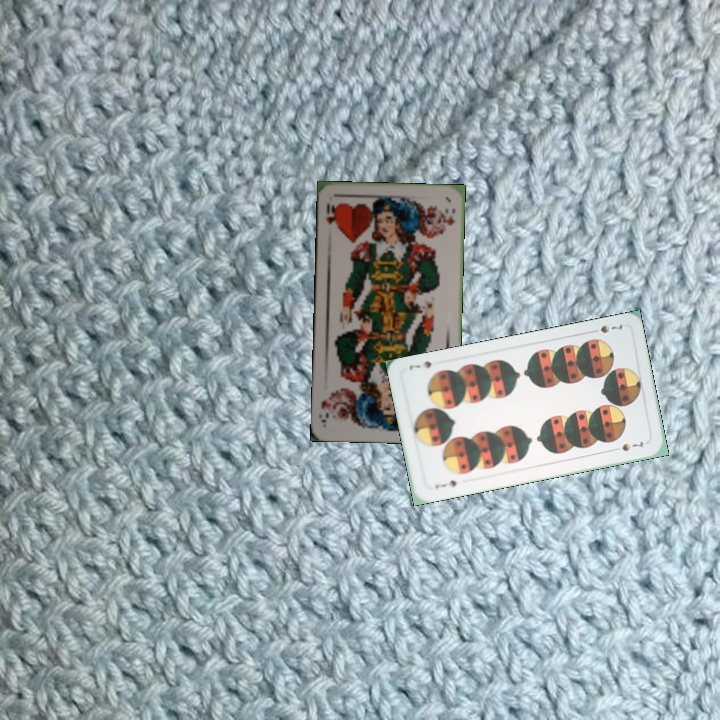HO: (322, 199, 339, 229)
S7: (586, 320, 625, 336), (431, 476, 459, 492)
